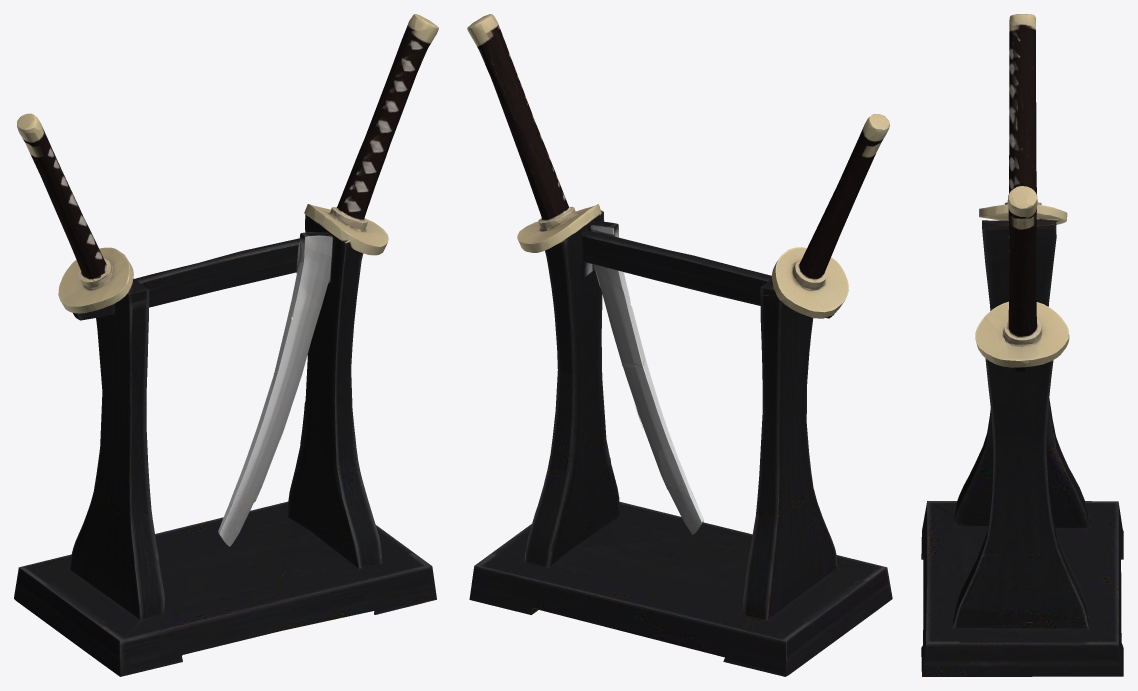
The model's file is sword_stand.glb.
3 renders of one model, left to right at view 1: azimuth 30°, elevation 25°; view 2: azimuth 150°, elevation 25°; view 3: azimuth 270°, elevation 25°, orthographic. The views are drawn at different scales.
Parts seen in each view (by area): view 1: sword_stand; view 2: sword_stand; view 3: sword_stand.
Part boxes in pixels (bbox=[...]): sword_stand: bbox=[14, 14, 438, 676]; sword_stand: bbox=[467, 14, 892, 676]; sword_stand: bbox=[921, 14, 1123, 676].
Size of the model in its own units: 0.8152 by 1 by 0.3626.
Materials: 1 (1 with a texture image).
